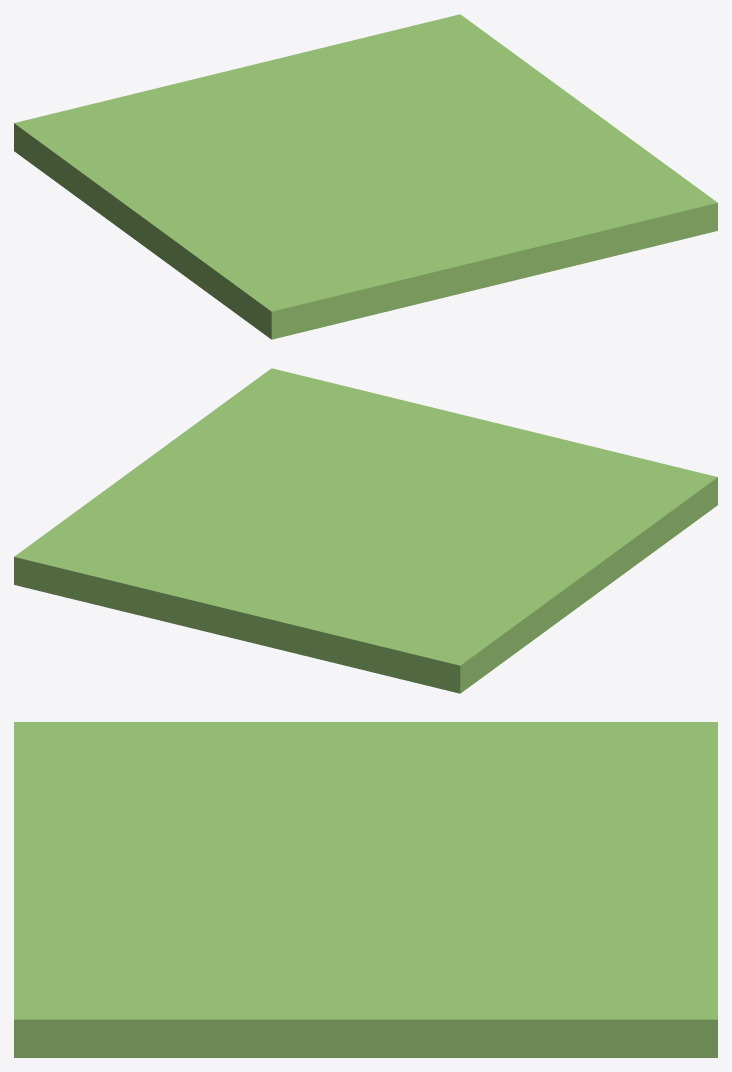
File: Grass_Soil_Tile_00.fbx
3 views of the same model, one above another, from view 1: azimuth 30°, elevation 25°; view 2: azimuth 150°, elevation 25°; view 3: azimuth 270°, elevation 25° (orthographic). The views are drawn at different scales.
Parts seen in each view (by area): view 1: Base; view 2: Base; view 3: Base.
Part boxes in pixels (left/top/right/bottom): Base: left=14, top=14, right=717, bottom=339; Base: left=14, top=368, right=717, bottom=693; Base: left=14, top=722, right=717, bottom=1057.
Bounding box in the file's own units: 1 × 1 × 0.06.
